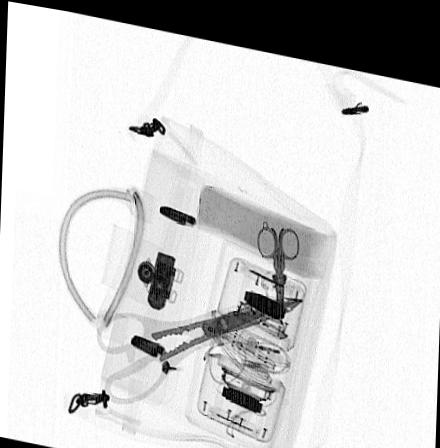Scissors: (92, 286, 305, 401), (255, 213, 301, 310)
